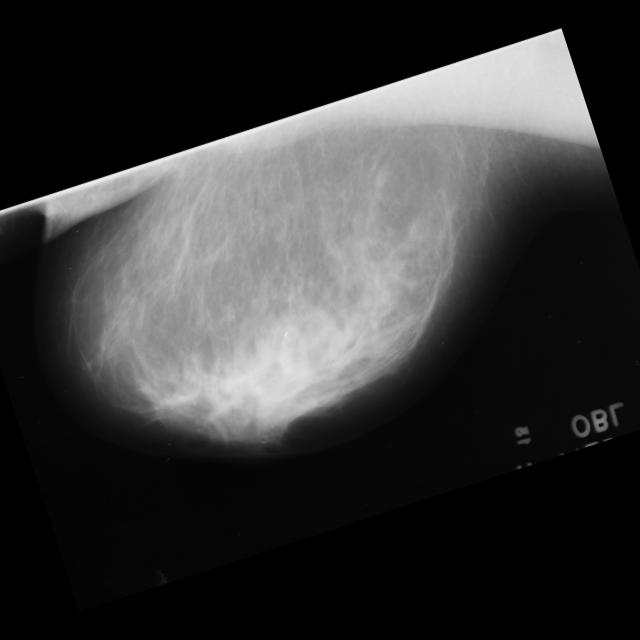CALC: (289, 0, 624, 298)
